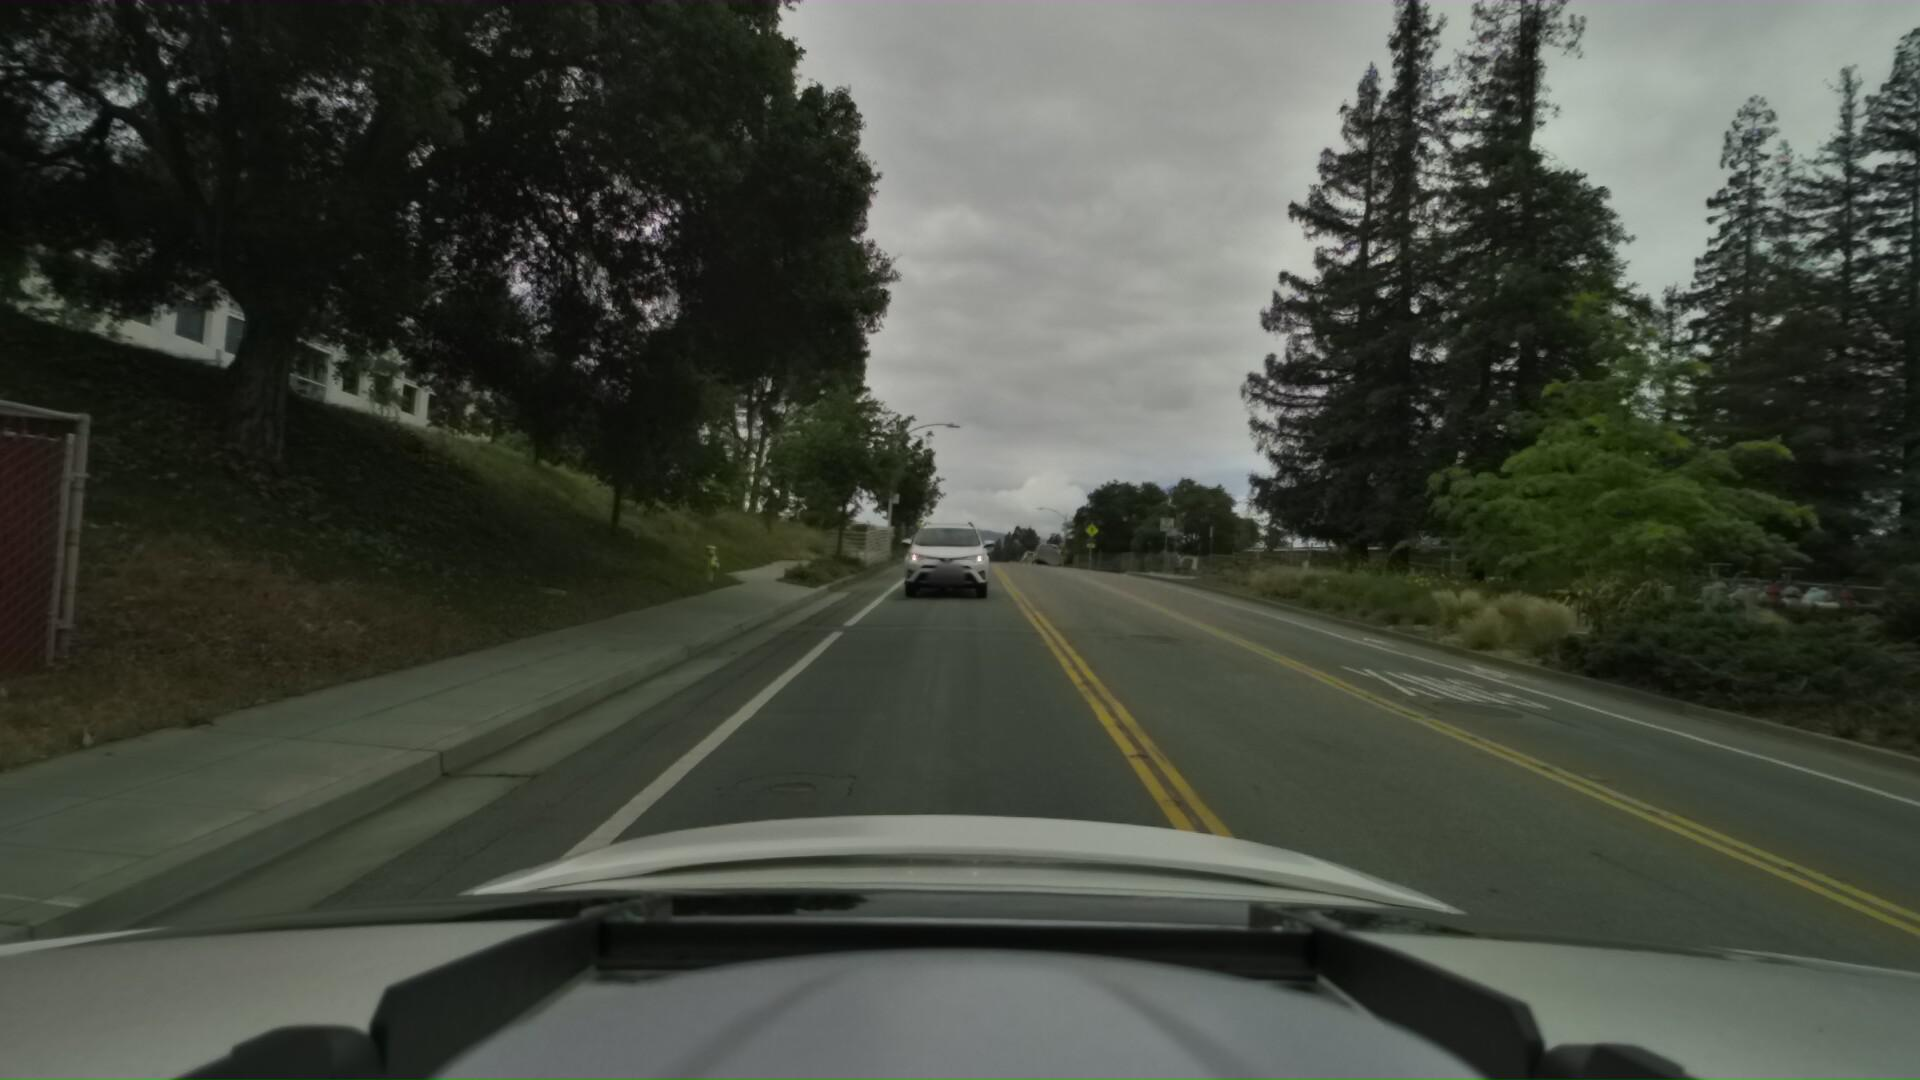car: (902, 504, 993, 589), (1030, 534, 1063, 563), (1013, 543, 1040, 566)
